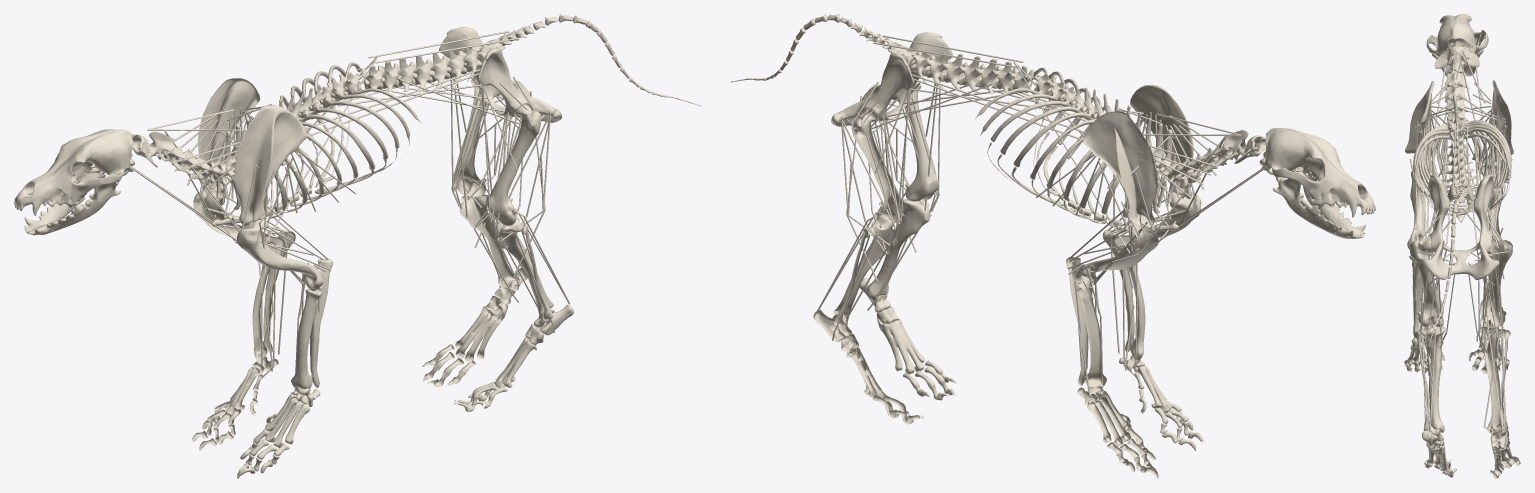
Rendered from canine-musculoskeletal-stark-detail-ab6241daac4f.glb.
The picture shows the model from 3 angles, left to right: view 1: azimuth 30°, elevation 25°; view 2: azimuth 150°, elevation 25°; view 3: azimuth 270°, elevation 25°; orthographic projection. The views are drawn at different scales.
Parts seen in each view (by area): view 1: thorax, caput, left-scapula, pelvis, abdomen, right-scapula, left-antebrachium, left-femur, cervix, right-calx, left-humerus, left-crus (+11 smaller); view 2: thorax, caput, right-scapula, pelvis, abdomen, left-scapula, right-antebrachium, cervix, right-femur, left-calx, right-crus, left-femur (+11 smaller); view 3: thorax, pelvis, caput, cervix, left-crus, right-crus, left-femur, right-femur, abdomen, left-scapula, cauda, right-scapula (+21 smaller).
Part boxes in pixels (bbox=[...]): thorax: bbox=[212, 62, 421, 226]; caput: bbox=[14, 129, 134, 235]; left-scapula: bbox=[234, 105, 307, 226]; pelvis: bbox=[439, 27, 561, 122]; abdomen: bbox=[360, 47, 481, 91]; right-scapula: bbox=[193, 78, 260, 197]; left-antebrachium: bbox=[291, 258, 332, 388]; left-femur: bbox=[486, 104, 541, 225]; cervix: bbox=[132, 131, 226, 189]; right-calx: bbox=[455, 268, 527, 362]; left-humerus: bbox=[236, 218, 323, 291]; left-crus: bbox=[492, 215, 553, 319]; thorax: bbox=[975, 67, 1179, 230]; caput: bbox=[1259, 128, 1375, 238]; right-scapula: bbox=[1083, 111, 1157, 227]; pelvis: bbox=[831, 32, 952, 126]; abdomen: bbox=[910, 50, 1034, 93]; left-scapula: bbox=[1130, 85, 1200, 199]; right-antebrachium: bbox=[1066, 257, 1106, 387]; cervix: bbox=[1168, 130, 1265, 188]; right-femur: bbox=[851, 109, 905, 230]; left-calx: bbox=[859, 277, 924, 374]; right-crus: bbox=[833, 220, 898, 326]; left-femur: bbox=[904, 81, 938, 201]; thorax: bbox=[1413, 95, 1511, 217]; pelvis: bbox=[1422, 174, 1499, 279]; caput: bbox=[1426, 14, 1488, 76]; cervix: bbox=[1434, 46, 1479, 123]; left-crus: bbox=[1414, 326, 1445, 432]; right-crus: bbox=[1479, 326, 1510, 433]; left-femur: bbox=[1409, 238, 1443, 326]; right-femur: bbox=[1480, 238, 1512, 326]; abdomen: bbox=[1441, 130, 1479, 192]; left-scapula: bbox=[1405, 81, 1434, 165]; cauda: bbox=[1428, 184, 1474, 346]; right-scapula: bbox=[1488, 80, 1513, 165].
Size of the model in its own units: 2 by 1.06 by 0.3587.
